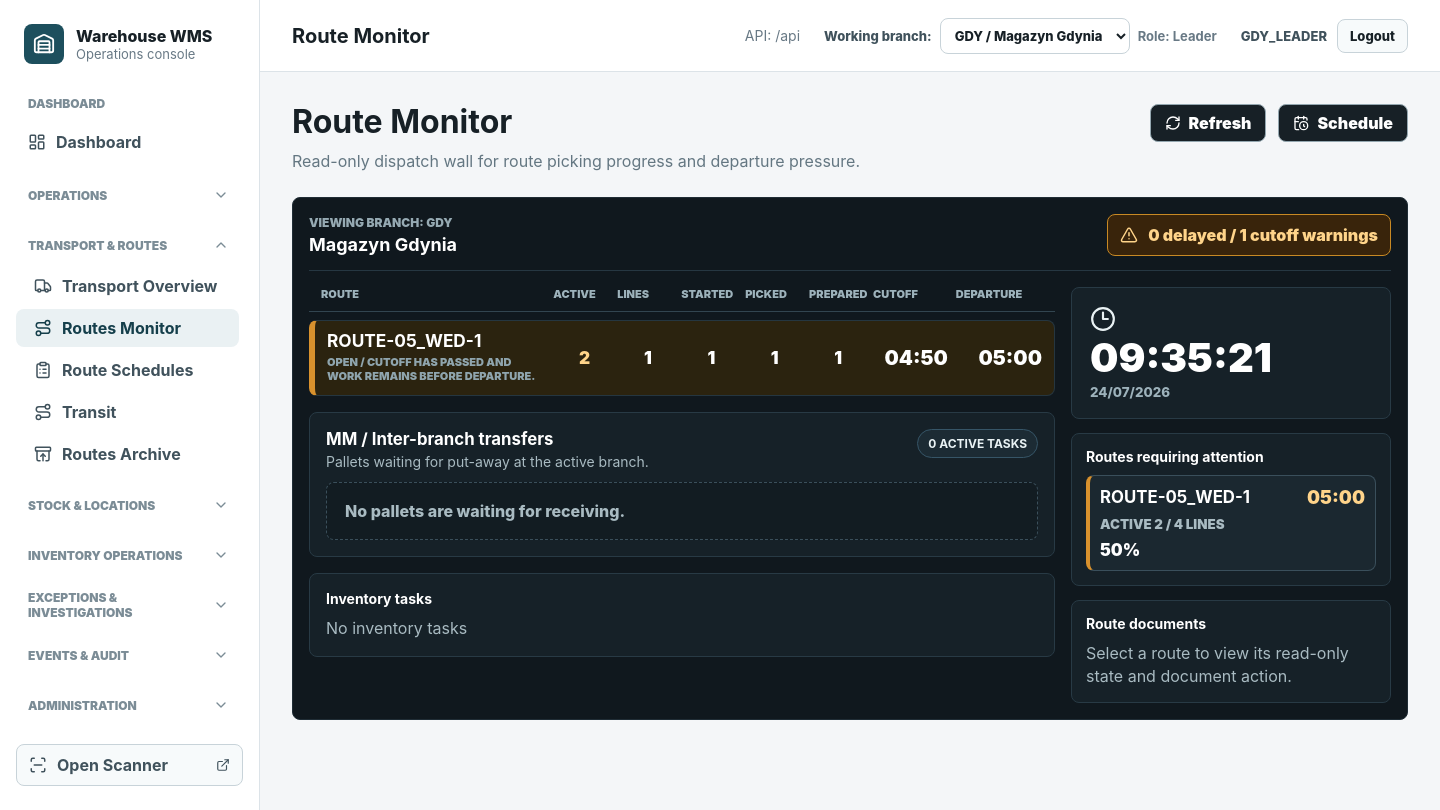
Test: Route operations pages › renders canonical identifiers without generic route subtitles or close controls
Click the text "ROUTE-05_WED-1" below "Started": (404, 341) [327,330,481,351]
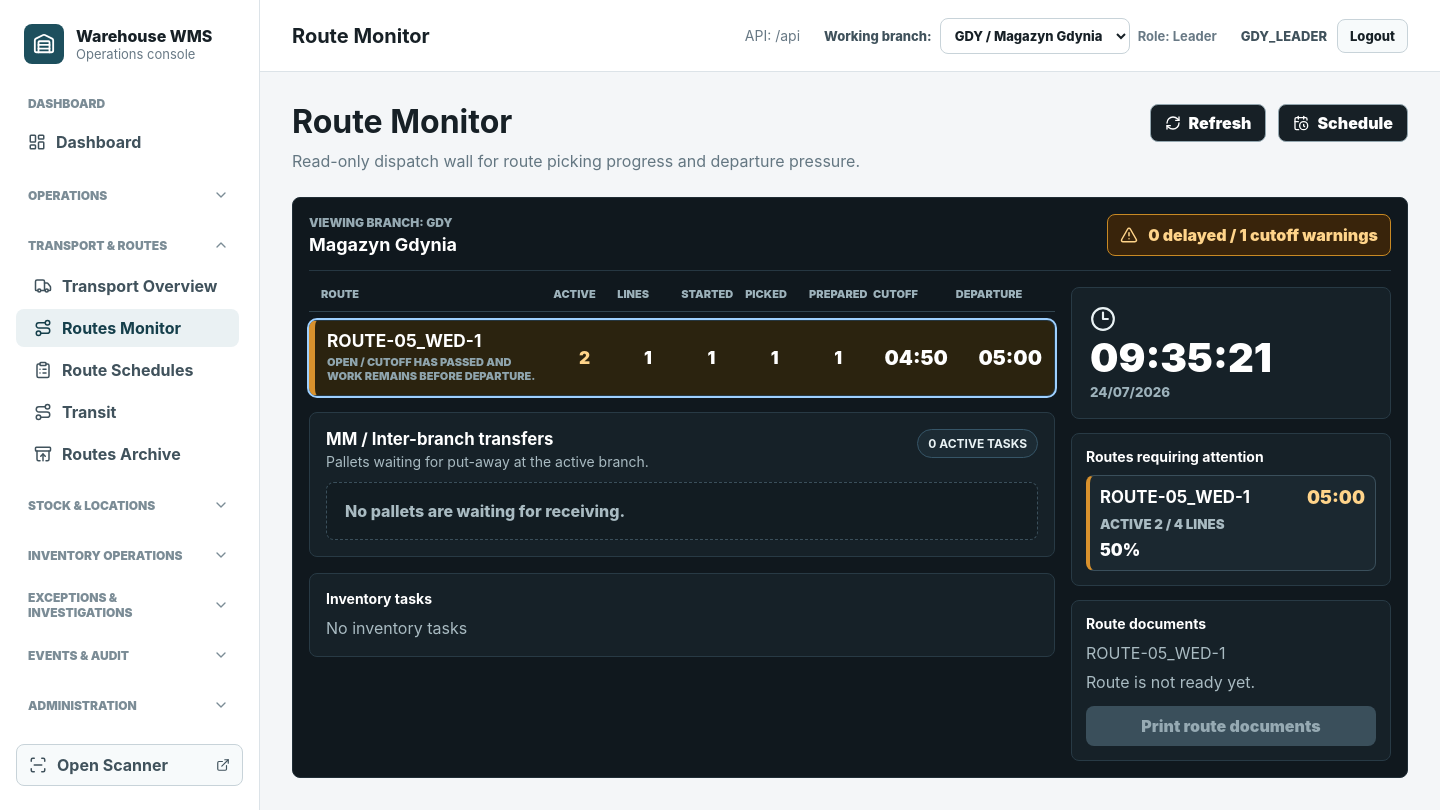
Check: the text "Route is not ready yet." is shown, box [1086,672,1255,692]
